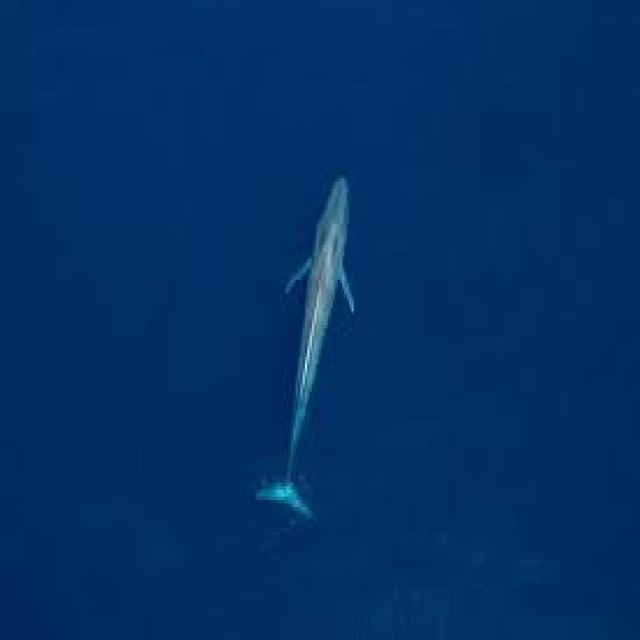blue_whale: (252, 160, 366, 566)
